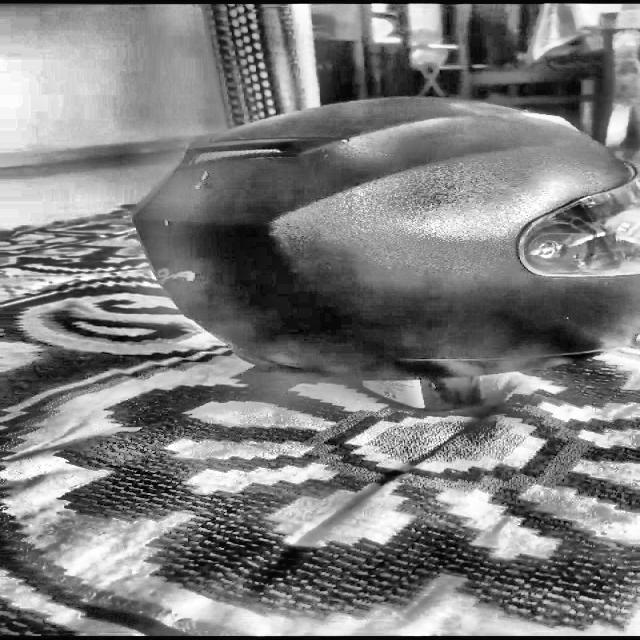Helmet: (144, 90, 640, 381)
